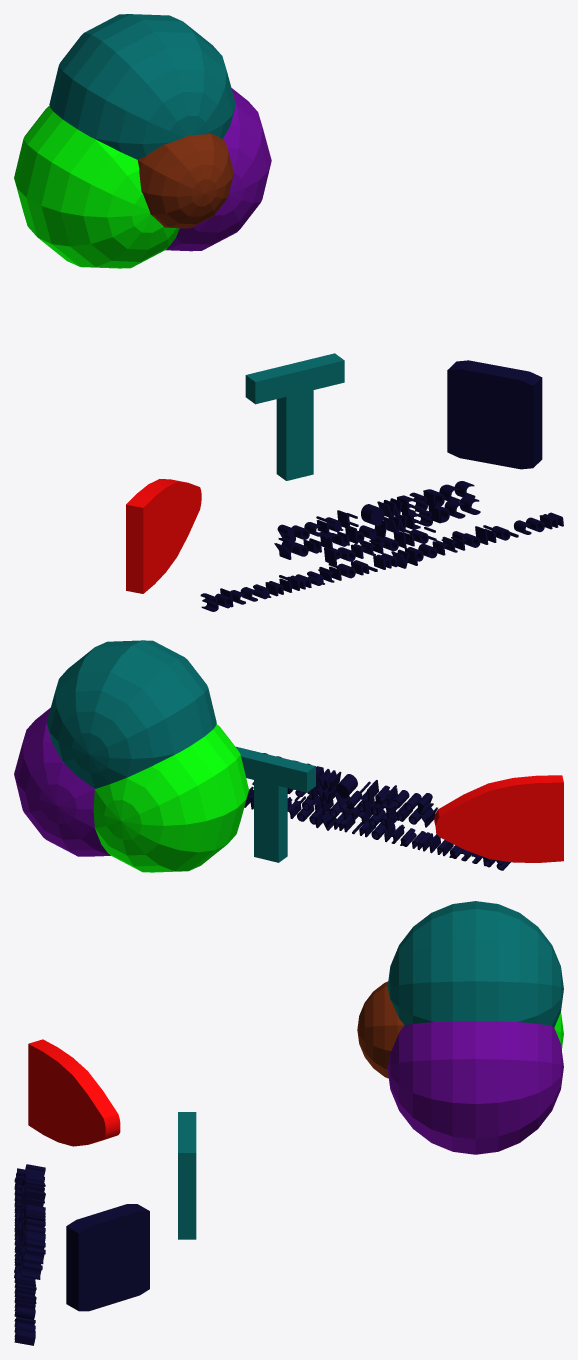
Rendered from homepagetemporary.obj.
3 renders of one model, top to bottom at view 1: azimuth 30°, elevation 25°; view 2: azimuth 150°, elevation 25°; view 3: azimuth 270°, elevation 25°, orthographic. The views are drawn at different scales.
Parts seen in each view (by area): view 1: nimbus2, typeMesh1, pCube2, pCube1, youtube; view 2: nimbus2, youtube, typeMesh1, pCube1; view 3: nimbus2, pCube2, youtube, typeMesh1, pCube1.
Part boxes in pixels (x1,y1,x2,y2): nimbus2: (14, 14, 271, 268); typeMesh1: (200, 481, 563, 611); pCube2: (447, 360, 542, 469); pCube1: (245, 353, 344, 480); youtube: (126, 479, 201, 593); nimbus2: (14, 640, 248, 872); youtube: (434, 775, 563, 862); typeMesh1: (244, 753, 510, 870); pCube1: (236, 746, 315, 862); nimbus2: (357, 901, 563, 1154); pCube2: (66, 1204, 149, 1311); youtube: (28, 1039, 120, 1146); typeMesh1: (14, 1164, 45, 1345); pCube1: (178, 1112, 196, 1239).
Size of the model in its own units: 60.97 by 50.64 by 70.5.
